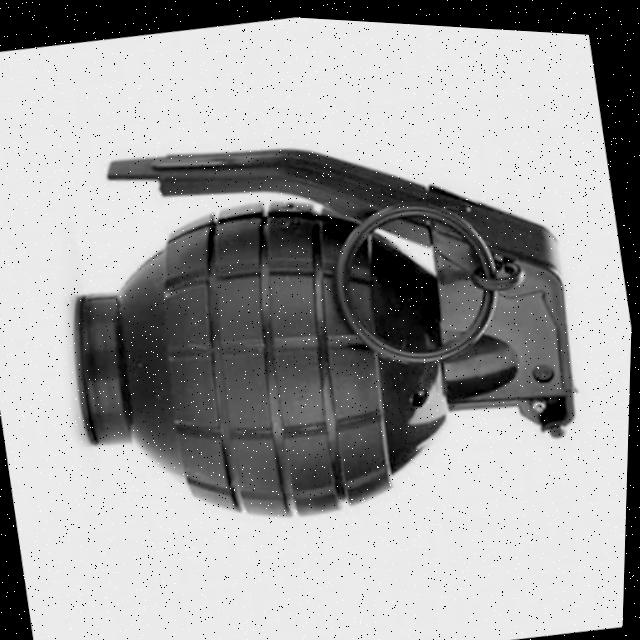grenade: (13, 38, 624, 586)
